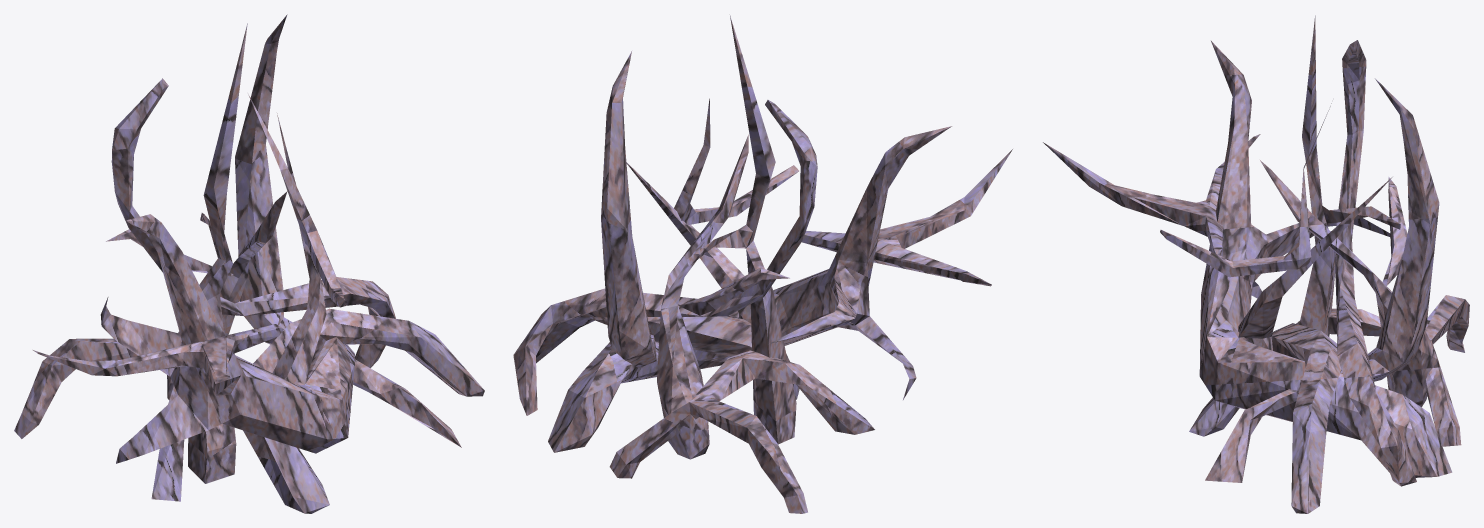
The model's file is Island_1_Tree_1.gltf.
The picture shows the model from 3 angles, left to right: view 1: azimuth 30°, elevation 25°; view 2: azimuth 150°, elevation 25°; view 3: azimuth 270°, elevation 25°; orthographic projection. The views are drawn at different scales.
Visible parts, largest first — view 1: Island_1_Tree_1; view 2: Island_1_Tree_1; view 3: Island_1_Tree_1.
Part boxes in pixels (x1,y1,x2,y2): Island_1_Tree_1: [14, 14, 484, 513]; Island_1_Tree_1: [513, 15, 1012, 513]; Island_1_Tree_1: [1043, 15, 1469, 513].
Size of the model in its own units: 9.99 by 8.94 by 8.29.
Materials: 1 (1 with a texture image).
